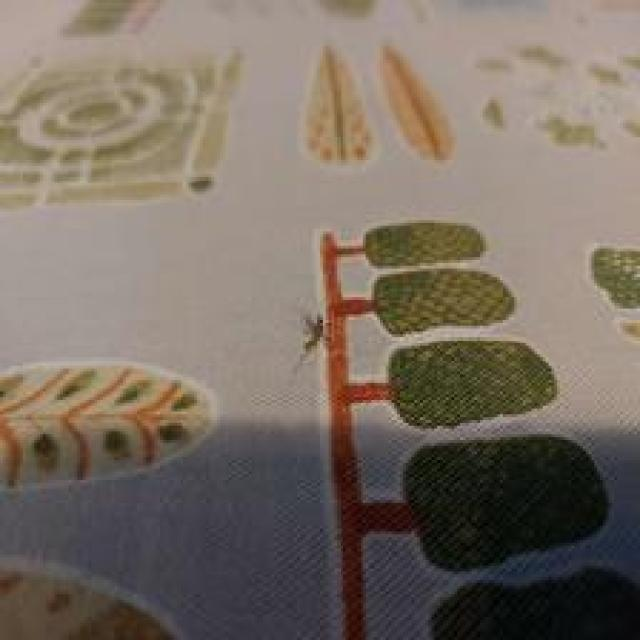Culex: (0, 358, 220, 496)
